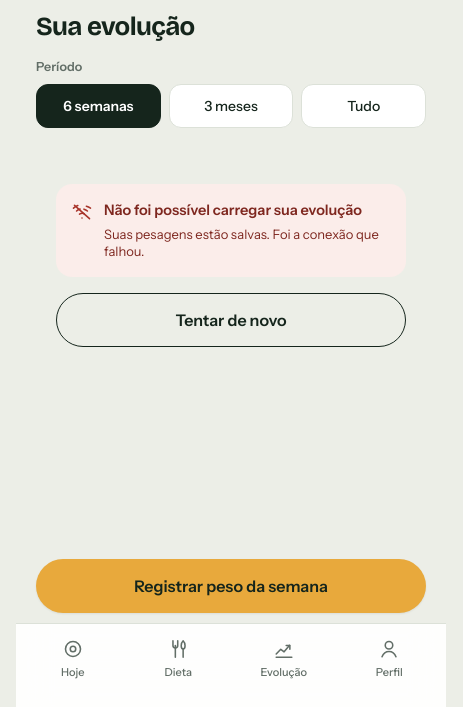
Scenario: Evolução (S15) › erro: ErrorState e "Tentar de novo" volta a buscar
Expected: the text "Não foi possível carregar sua evolução" is shown, [104,200,390,222]
Click the button "Tentar de novo": (231, 320) [56,293,406,347]
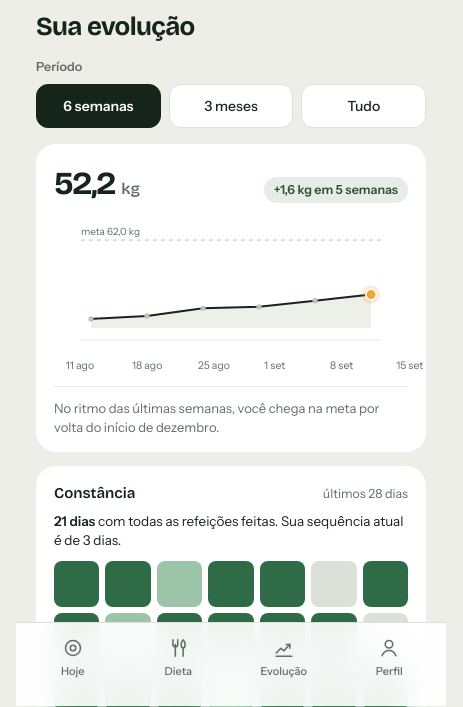
Result: the picture named "Peso de" is shown at [54,220,408,352]
